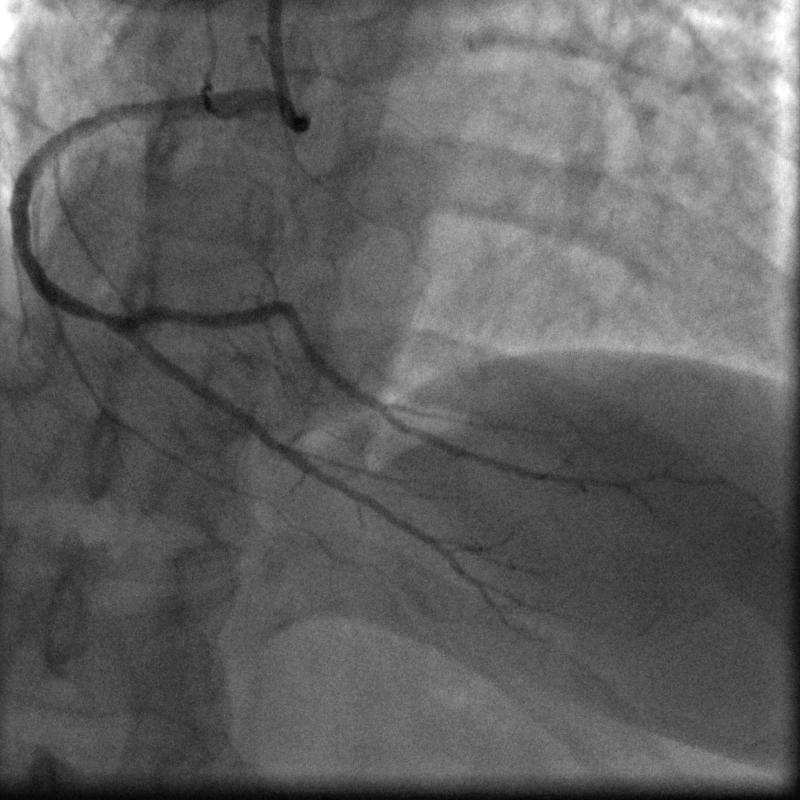Stenosis: (88, 299, 115, 332)
